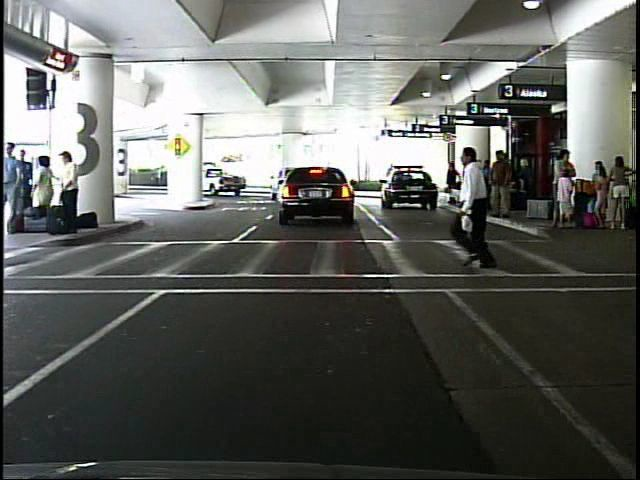person: (449, 136, 511, 278), (5, 142, 36, 237), (61, 146, 86, 236), (32, 151, 60, 230), (444, 161, 458, 205), (151, 162, 164, 189)
